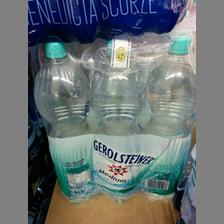Wasser: (32, 44, 96, 204), (141, 33, 195, 200), (91, 38, 145, 204)
